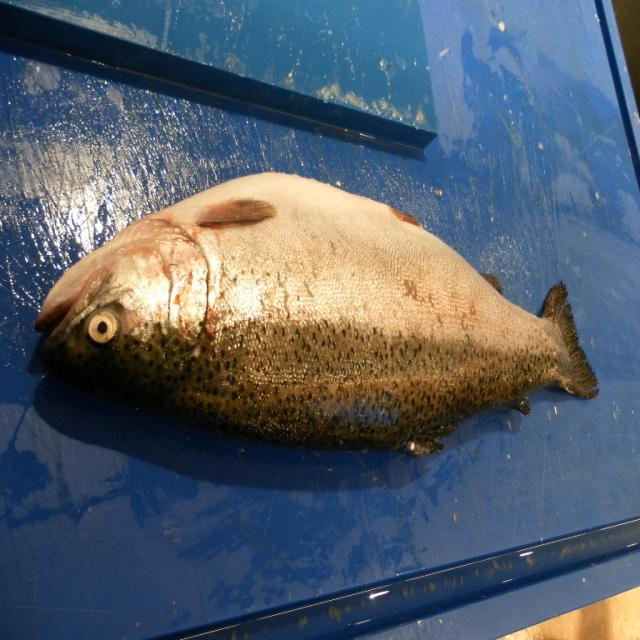Trout-alabalik-: (36, 173, 598, 455)
